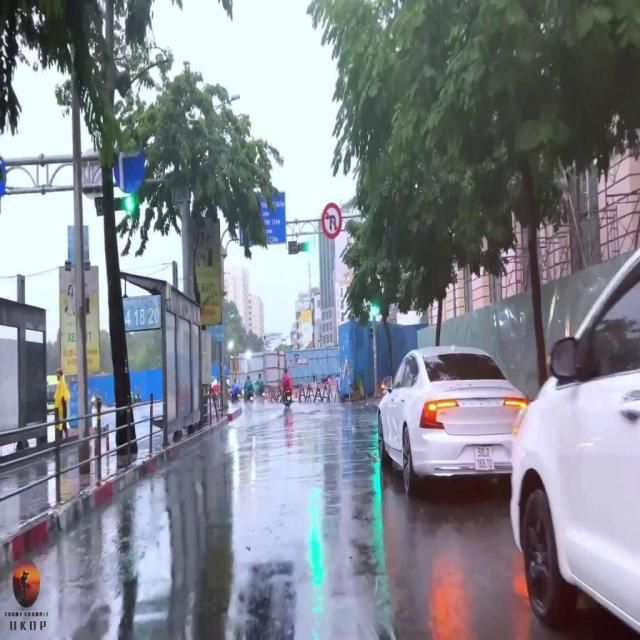khac: (322, 202, 342, 237)
